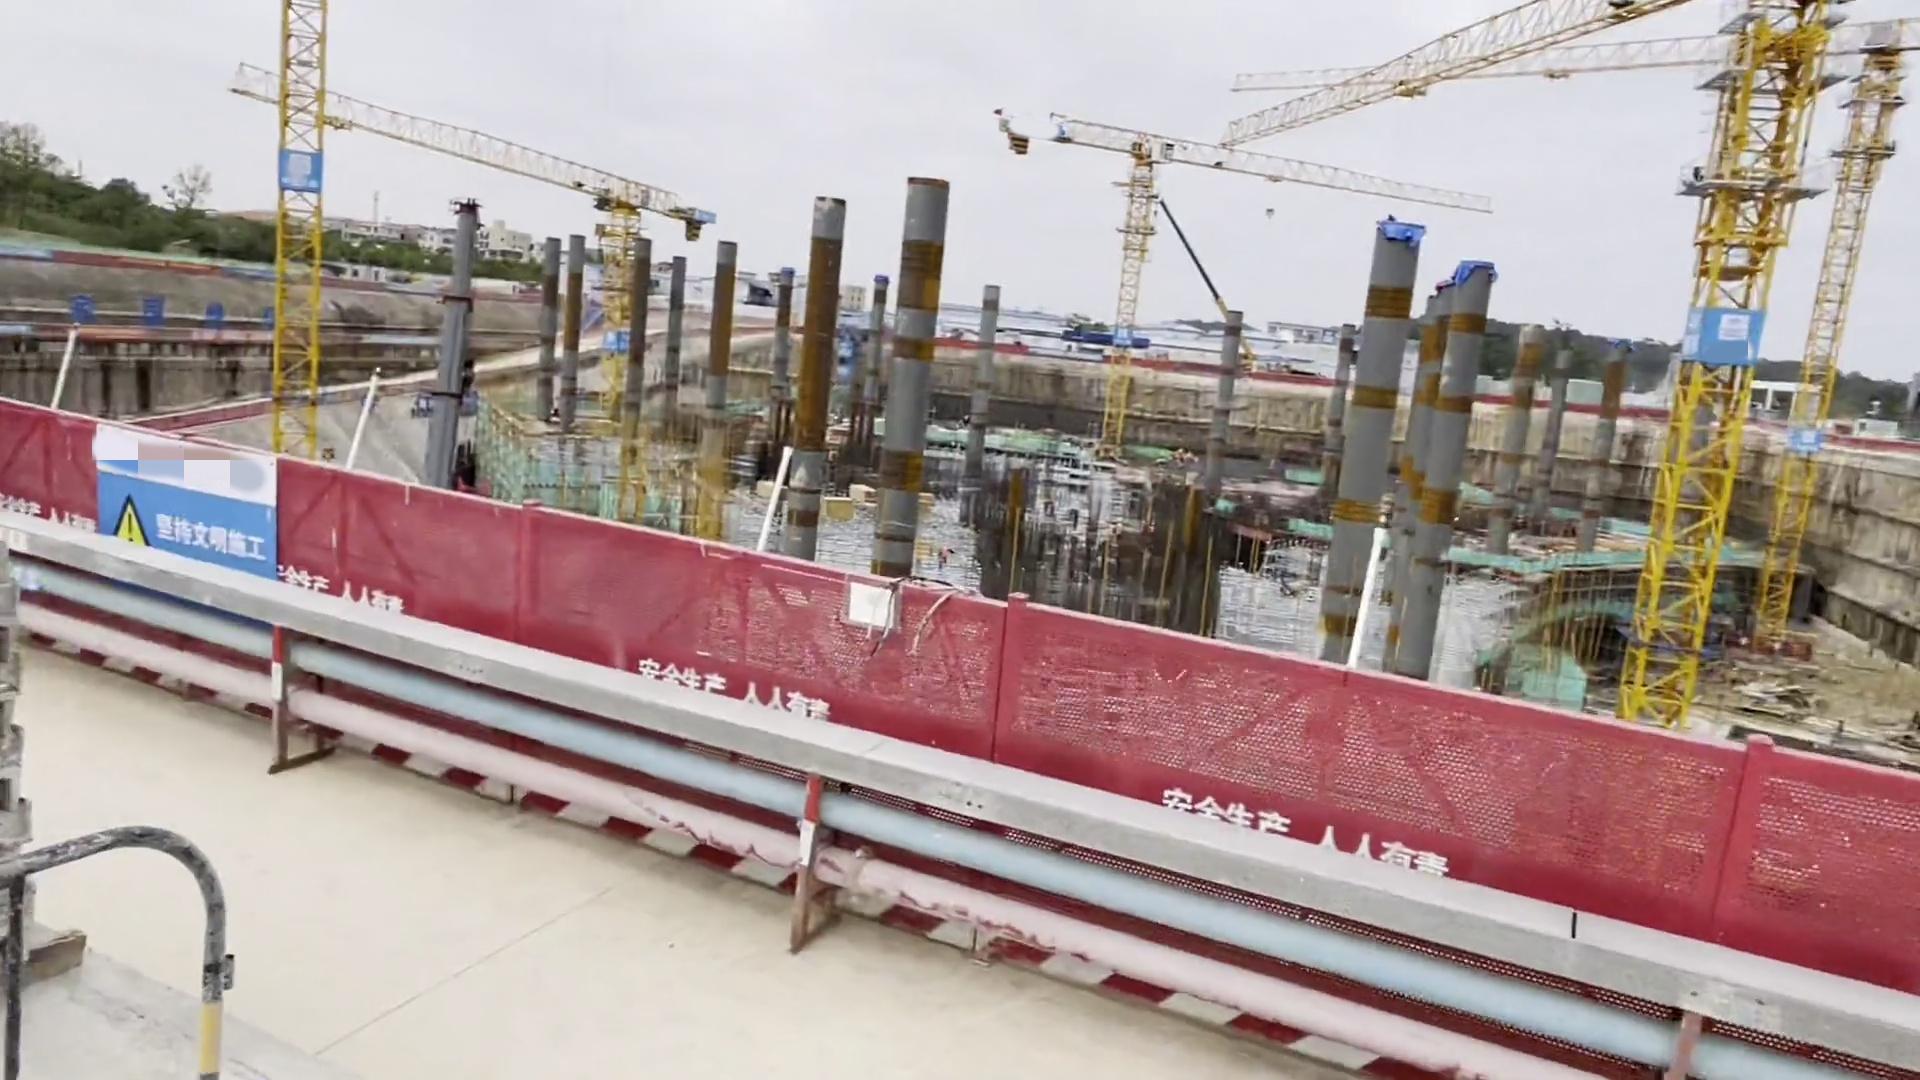fence: (1, 400, 1920, 1080)
slogan: (95, 476, 284, 588)
